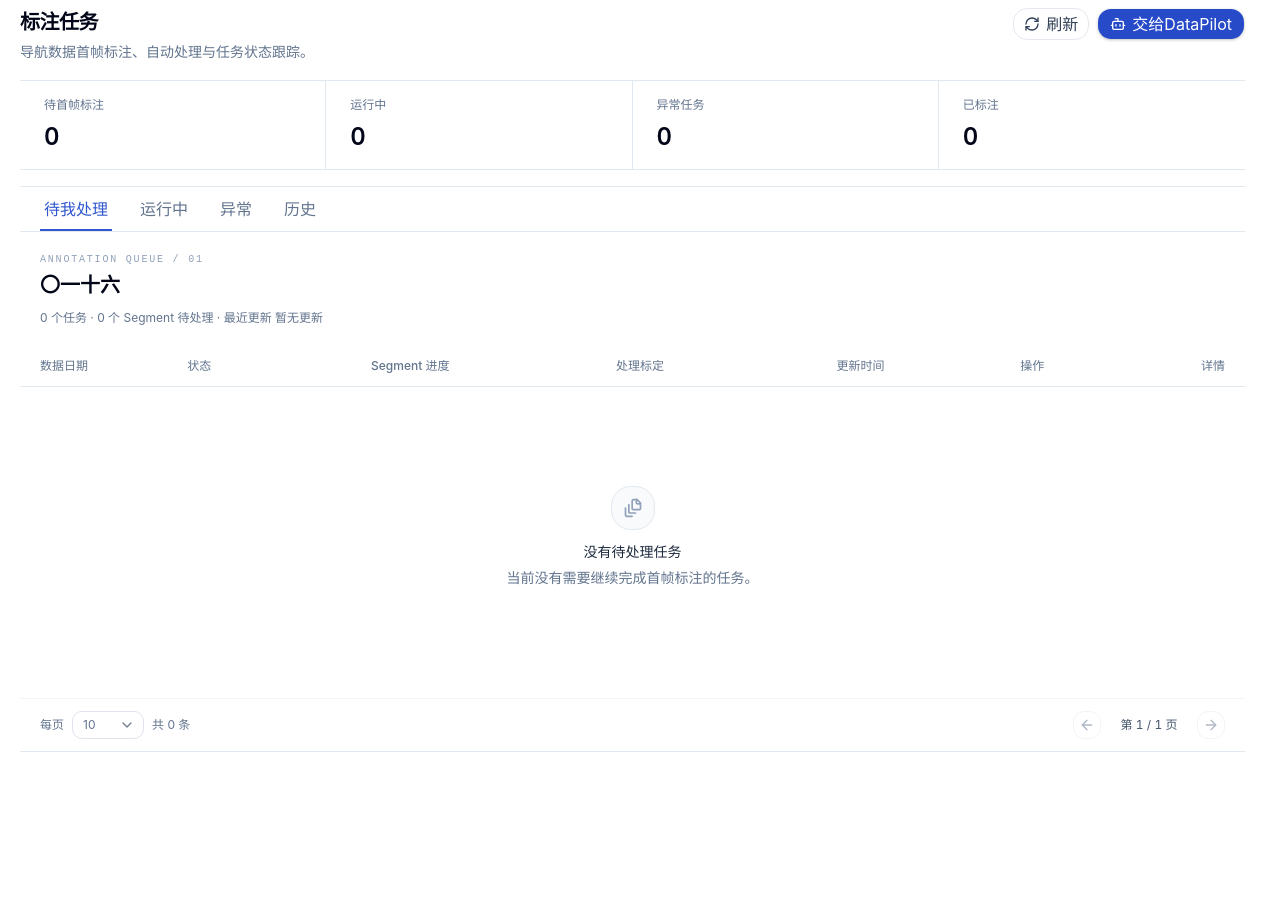
Test case: projects an all-skip completion as no processable targets instead of ordinary cancellation
What coordinates should you click on to do the following:
click the tab "历史"
I would click on:
 (300, 209)
Its box is [280,187,320,231].
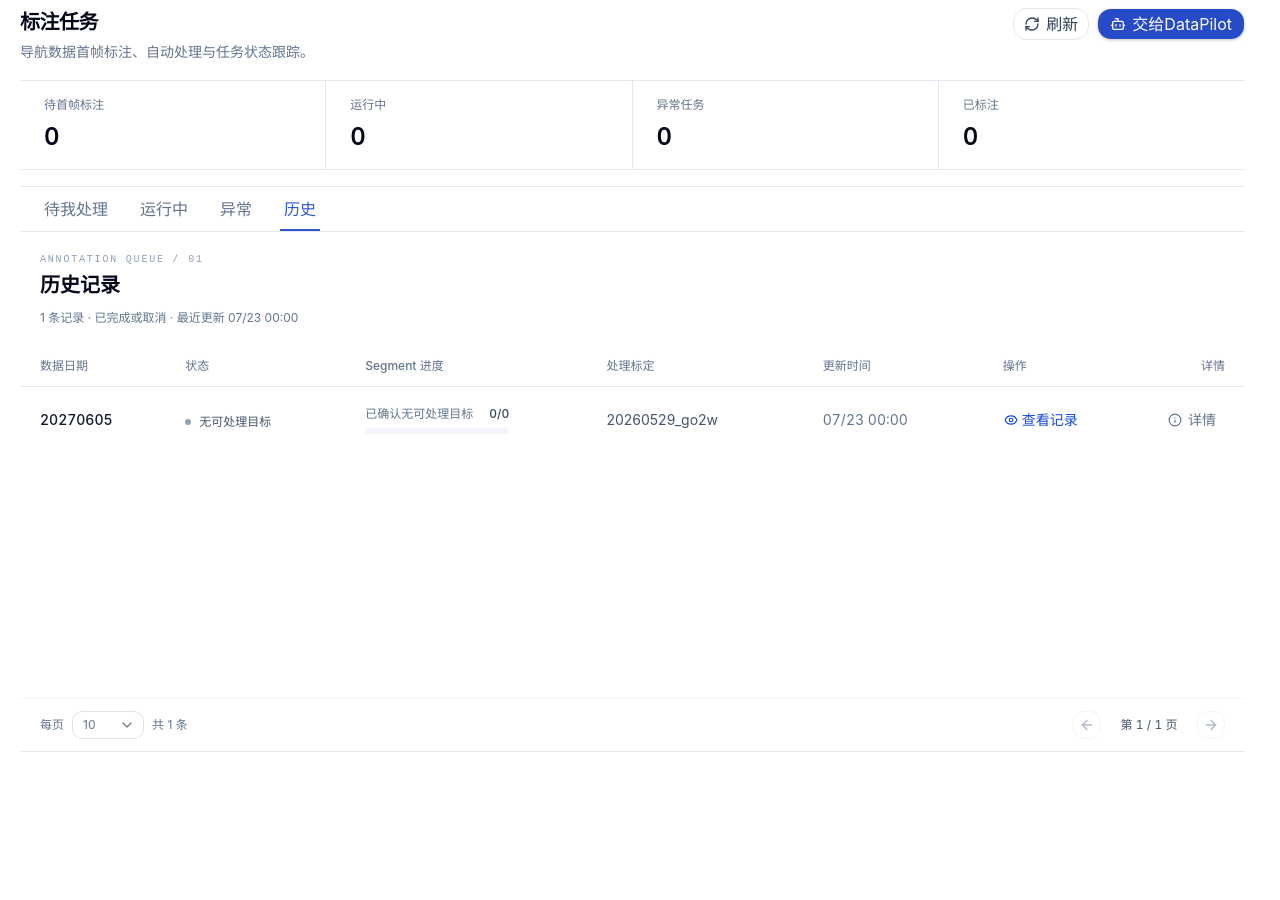
Expected: the text "无可处理目标" is shown, [185,414,271,430]
